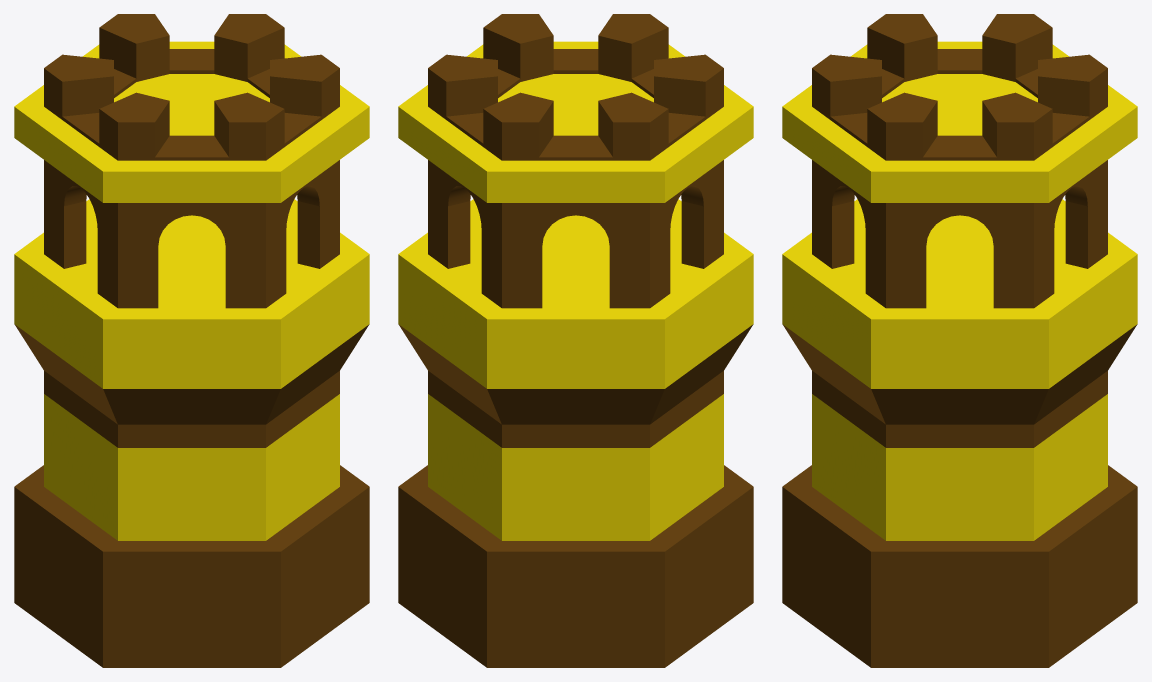
File: tower.glb
3 views of the same model, side by side, from view 1: azimuth 30°, elevation 25°; view 2: azimuth 150°, elevation 25°; view 3: azimuth 270°, elevation 25° (orthographic).
Visible parts, largest first — view 1: hexagon_overhang, hexagon_ring (×2), hexagon_castleBattlement, hexagon_archesHalf; view 2: hexagon_overhang, hexagon_ring (×2), hexagon_castleBattlement, hexagon_archesHalf; view 3: hexagon_overhang, hexagon_ring (×2), hexagon_castleBattlement, hexagon_archesHalf.
Part boxes in pixels (left/top/right/bottom): hexagon_overhang: left=14, top=199, right=369, bottom=540; hexagon_ring (×2): left=14, top=41, right=369, bottom=667; hexagon_castleBattlement: left=44, top=14, right=339, bottom=160; hexagon_archesHalf: left=44, top=160, right=339, bottom=308; hexagon_overhang: left=398, top=199, right=753, bottom=540; hexagon_ring (×2): left=398, top=41, right=753, bottom=667; hexagon_castleBattlement: left=428, top=14, right=723, bottom=160; hexagon_archesHalf: left=428, top=160, right=723, bottom=308; hexagon_overhang: left=782, top=199, right=1137, bottom=540; hexagon_ring (×2): left=782, top=41, right=1137, bottom=667; hexagon_castleBattlement: left=812, top=14, right=1107, bottom=160; hexagon_archesHalf: left=812, top=160, right=1107, bottom=308.
Size of the model in its own units: 1.2 by 2.3 by 1.39.
